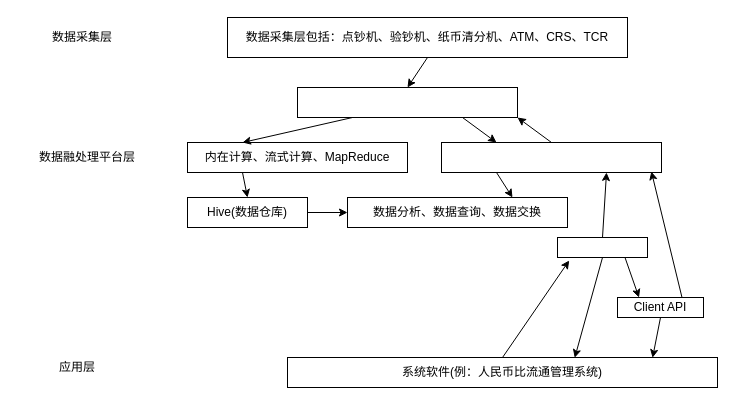
Some shapes in this 735 by 405 pixel diagram are drawn without their labels. The shapes that lost their labels are listed below. From the top down, each one's centre as x and y in pixels, then its label:
At [407,102]: "HDFS".
At [551,157]: "Hbase(实时分布式列存储数据库)".
At [602,247]: "MySQI Cluster".
